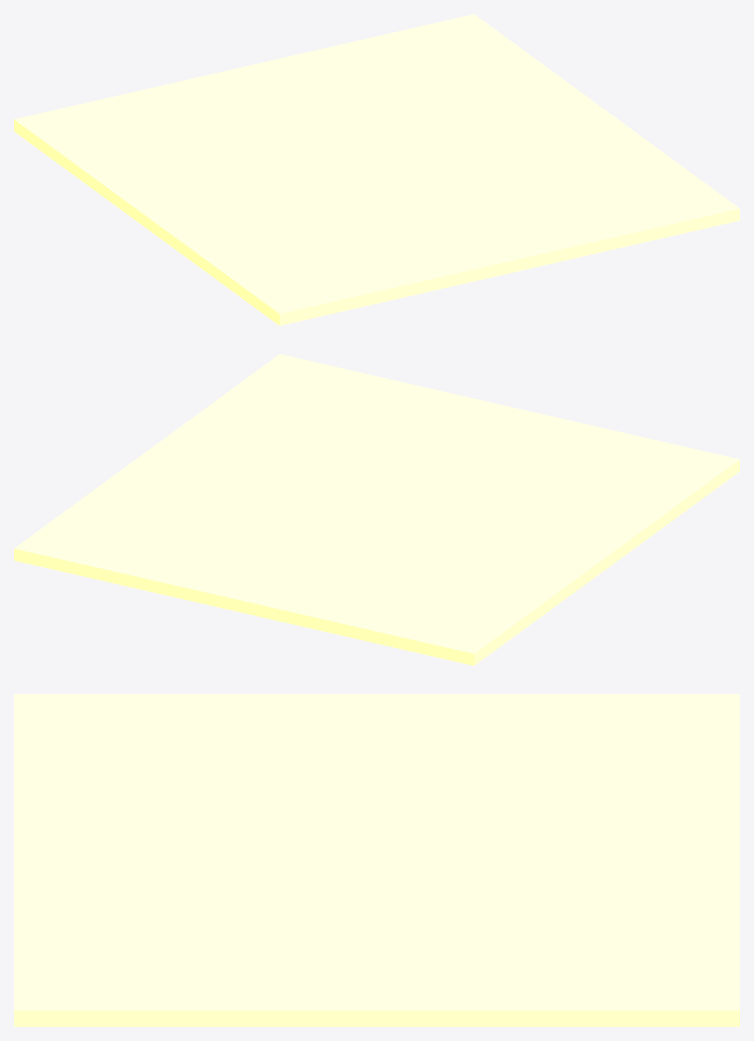
Rendered from h06_respawn_stone.fbx.
3 views of the same model, one above another, from view 1: azimuth 30°, elevation 25°; view 2: azimuth 150°, elevation 25°; view 3: azimuth 270°, elevation 25° (orthographic). The views are drawn at different scales.
Parts seen in each view (by area): view 1: h06_respawn_stone__Lime; view 2: h06_respawn_stone__Lime; view 3: h06_respawn_stone__Lime.
Part boxes in pixels (<box>): h06_respawn_stone__Lime: <box>14,14,739,325</box>; h06_respawn_stone__Lime: <box>14,354,739,665</box>; h06_respawn_stone__Lime: <box>14,694,739,1026</box>.
Bounding box in the file's own units: 0.8 × 0.0316 × 0.8.
